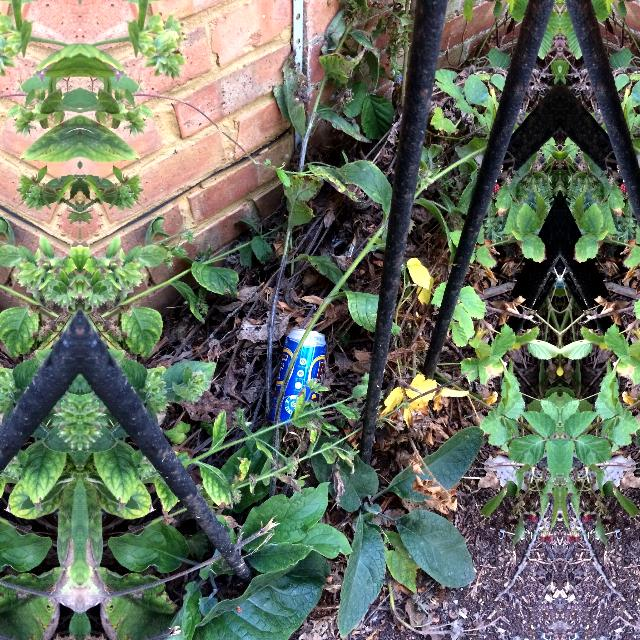Metal: (266, 326, 328, 436)
